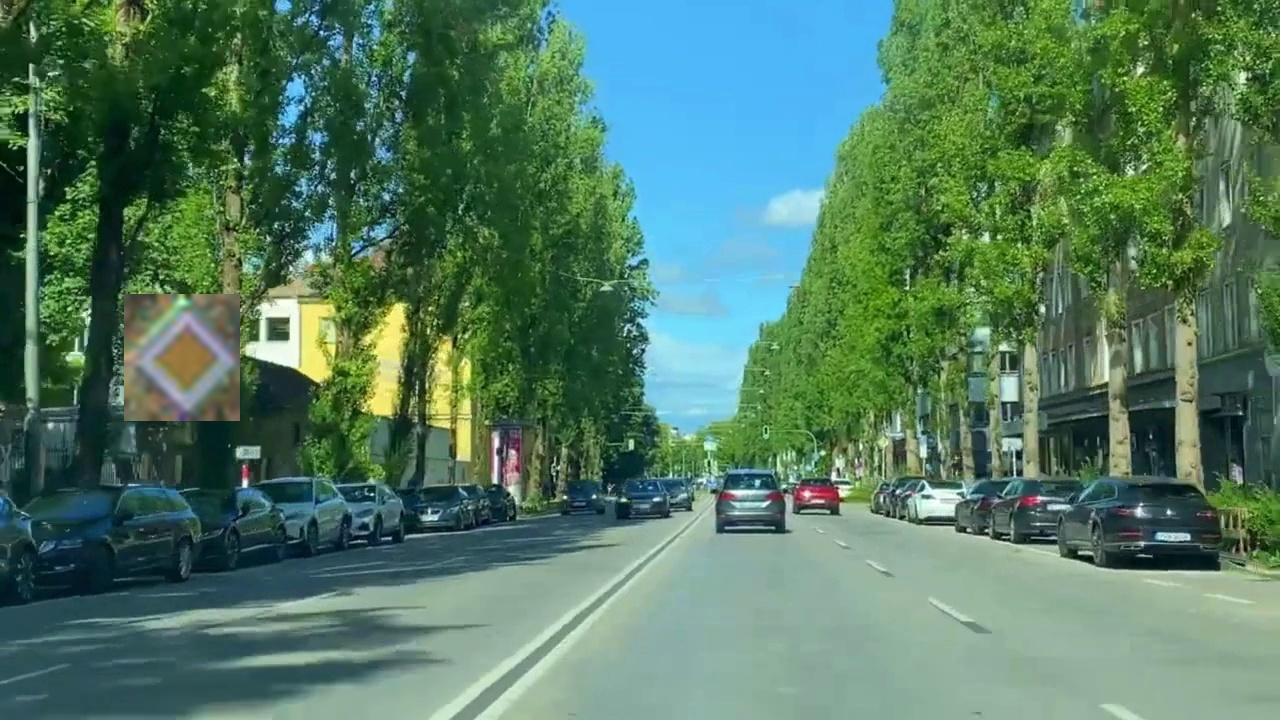Priority road: (124, 294, 240, 421)
